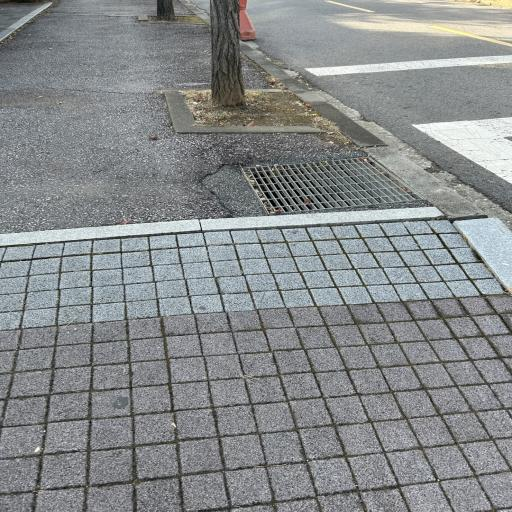drain: (242, 156, 422, 212)
